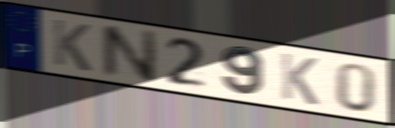0: (332, 61, 379, 113)
2: (164, 36, 208, 91)
9: (218, 44, 266, 98)
K: (278, 50, 321, 108), (51, 17, 93, 74)
N: (98, 23, 159, 85)
